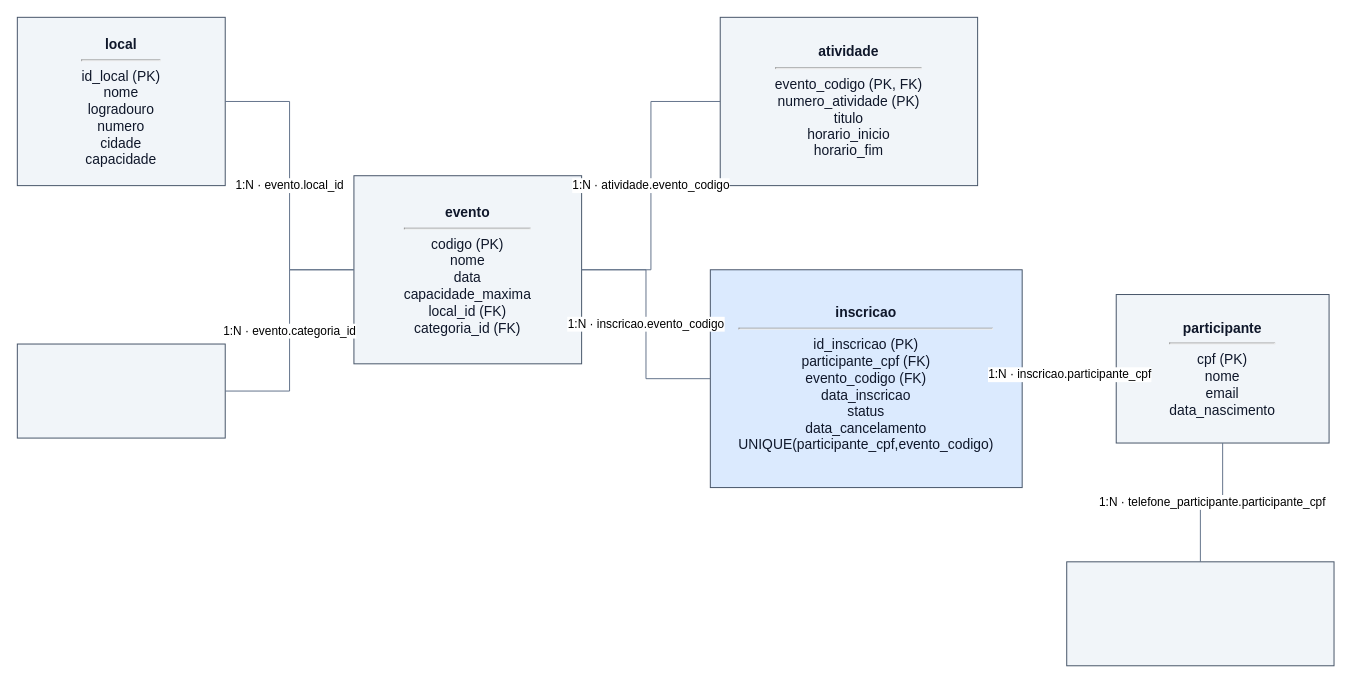
Image size: 1351x683. Some labels were removed from this diagram. Each missing label, with the centre of its shape:
categoria id_categoria (PK) nome: the point at 120,390
telefone_participante participante_cpf (PK, FK) telefone (PK): the point at 1200,613
